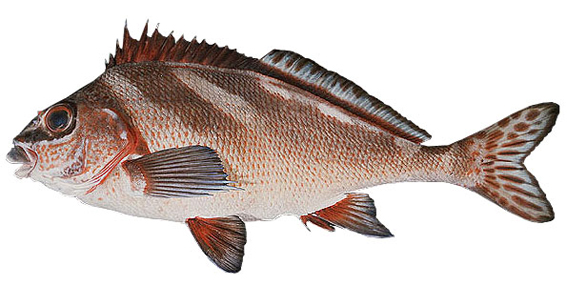fish: (7, 19, 561, 274)
